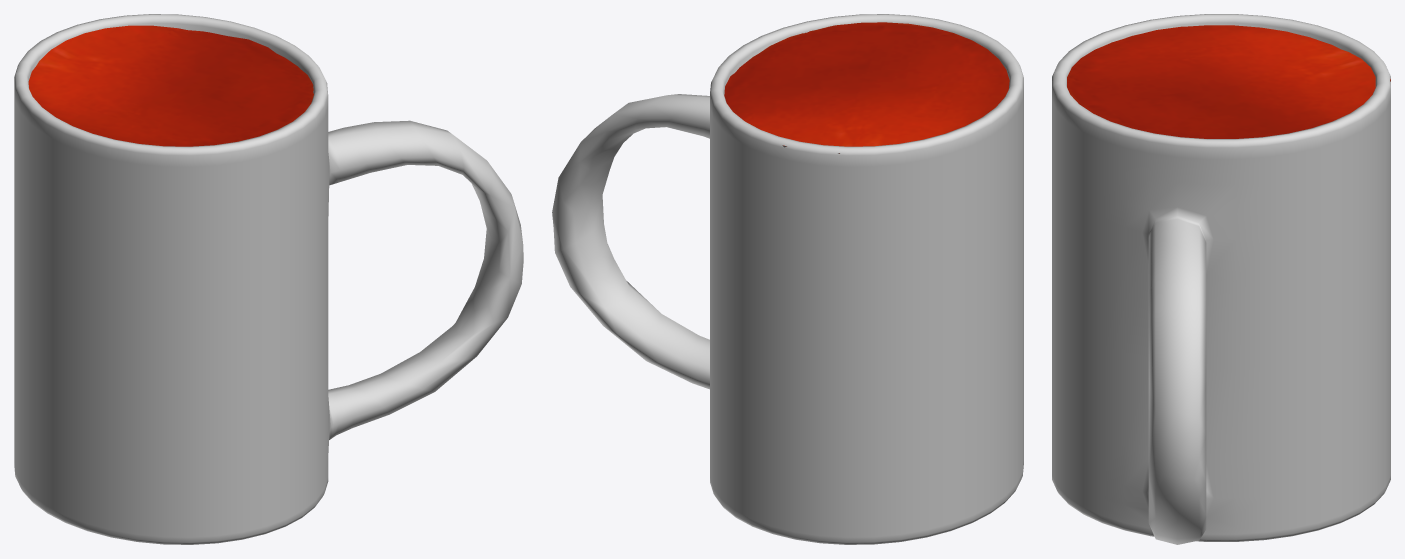
3 renders of one model, left to right at view 1: azimuth 30°, elevation 25°; view 2: azimuth 150°, elevation 25°; view 3: azimuth 270°, elevation 25°, orthographic.
Visible parts, largest first — view 1: Cylinder001, Cylinder002; view 2: Cylinder001, Cylinder002; view 3: Cylinder001, Cylinder002.
Part boxes in pixels (bbox=[...]): Cylinder001: bbox=[14, 14, 523, 544]; Cylinder002: bbox=[28, 25, 313, 146]; Cylinder001: bbox=[552, 14, 1023, 544]; Cylinder002: bbox=[724, 22, 1009, 153]; Cylinder001: bbox=[1052, 14, 1390, 544]; Cylinder002: bbox=[1067, 25, 1390, 138].
Size of the model in its own units: 9.36 by 7.78 by 5.89.
Materials: 4 (1 with a texture image).
